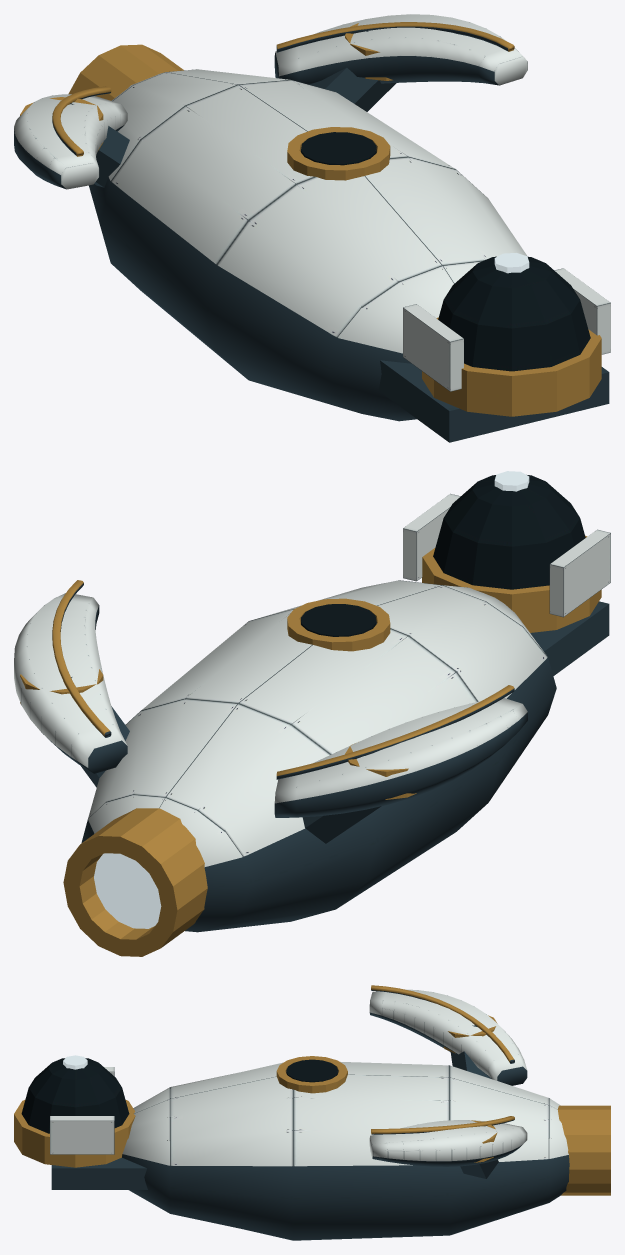
The model's file is pioneer-europa-l01-shield.glb.
3 views of the same model, one above another, from view 1: azimuth 30°, elevation 25°; view 2: azimuth 150°, elevation 25°; view 3: azimuth 270°, elevation 25° (orthographic). The views are drawn at different scales.
Visible parts, largest first — view 1: Drone; view 2: Drone; view 3: Drone.
Boxes of the visible parts, box(x1,y1,x2,y2) form: Drone: box(14, 14, 610, 442); Drone: box(14, 471, 610, 956); Drone: box(14, 985, 610, 1240).
Size of the model in its own units: 0.7866 by 0.3952 by 1.26.
3 materials, 3 textured.
